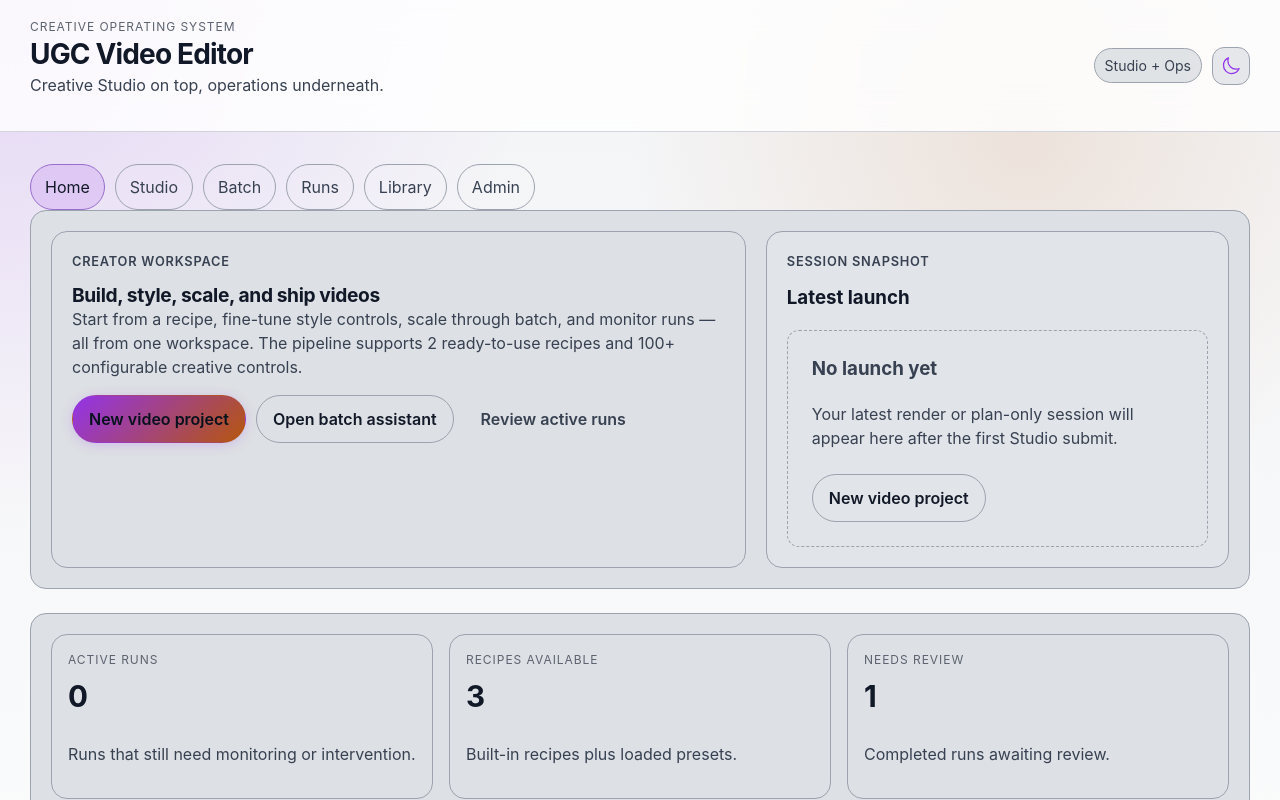
Test: App › starts from the new Home shell and previews a Studio run before launch
Expected: the link "Home" is shown, x1=30 y1=164 x2=105 y2=210
Expected: the link "Batch" is shown, x1=203 y1=164 x2=276 y2=210
Click the link "Studio" at [154, 187], box x1=115 y1=164 x2=193 y2=210
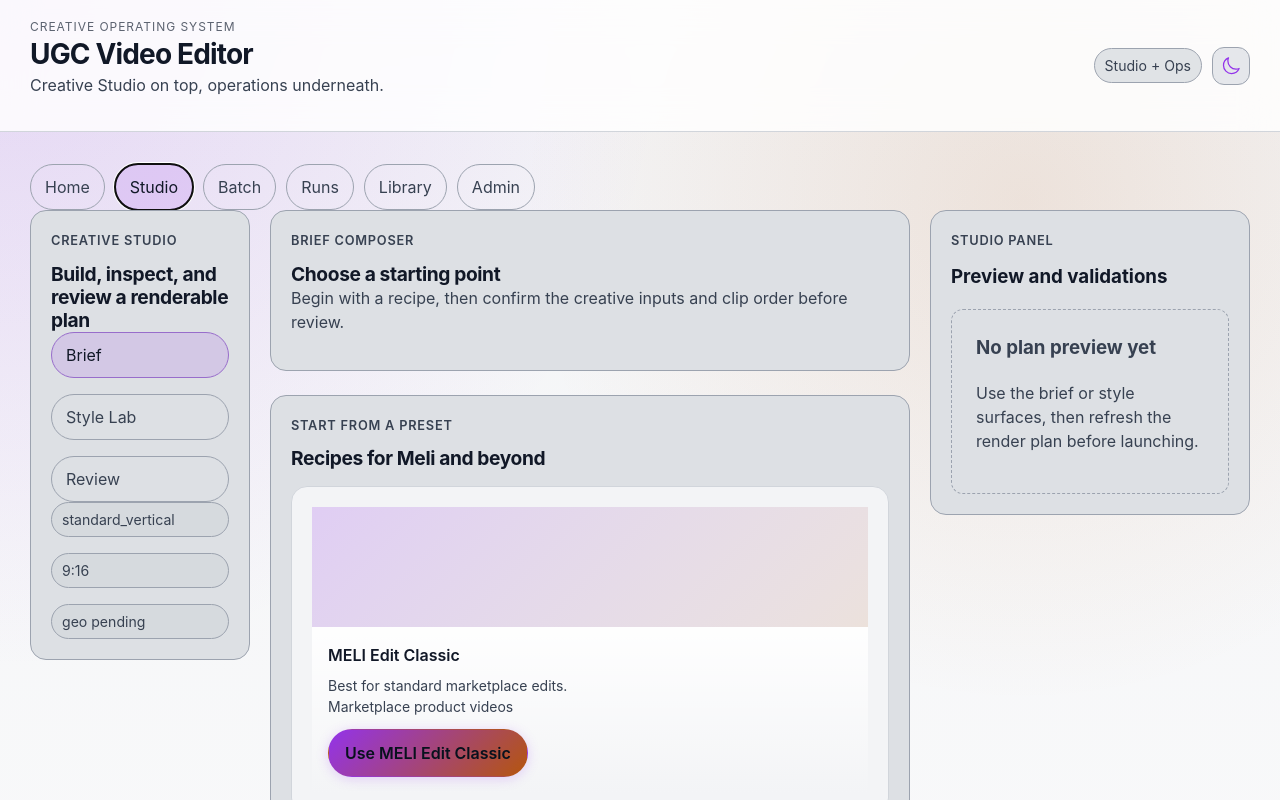
Expected: the heading "Choose a starting point" is shown, x1=291 y1=262 x2=500 y2=286
Click the button "Use MELI Edit Classic" at [428, 753], box x1=328 y1=729 x2=528 y2=777
(page scrolled)
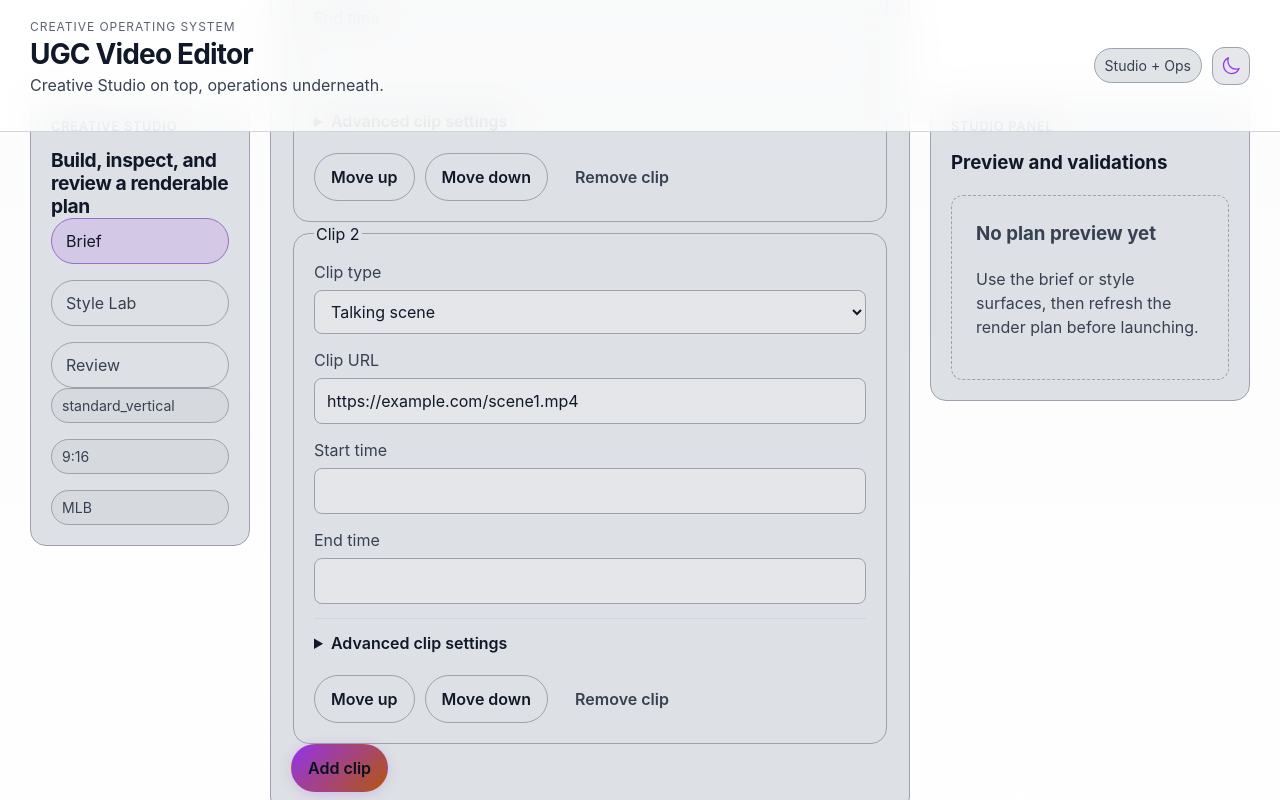
Expected: the number of fields labelled "Clip URL" is 2
Replace the text in the field labelled "Clip URL" with "https://example.com/scene2.mp4" at [590, 401], box x1=314 y1=378 x2=866 y2=424
(page scrolled)
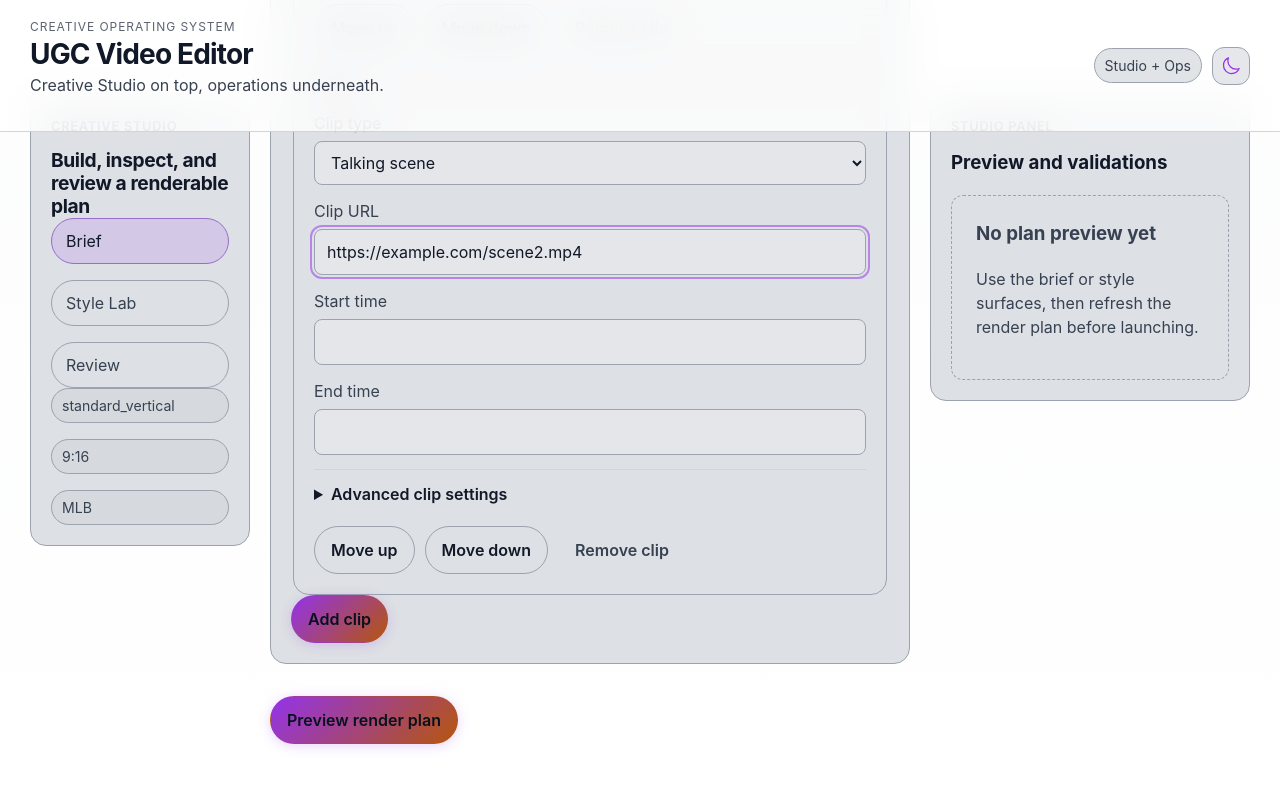
Click the button "Preview render plan" at [364, 720], box x1=270 y1=696 x2=458 y2=744
(page scrolled)
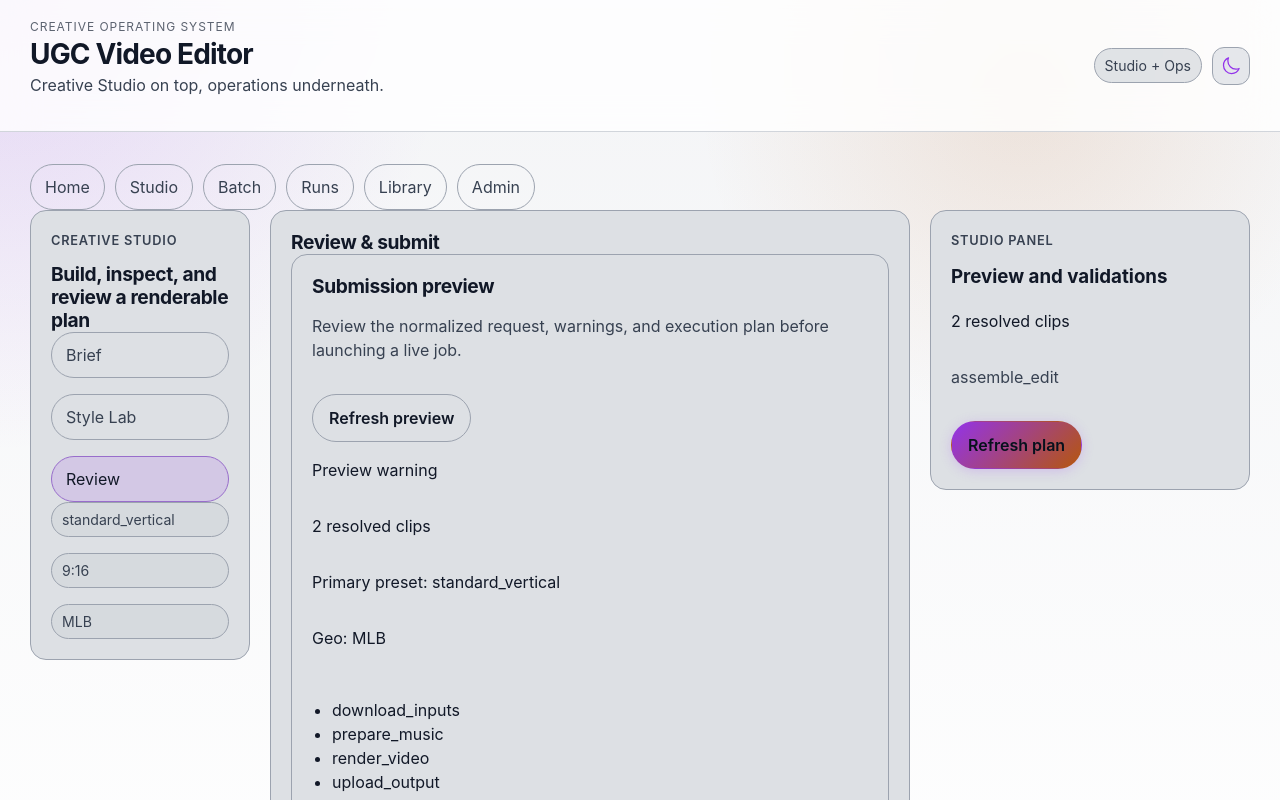
Expected: the heading "Review & submit" is shown, x1=291 y1=230 x2=439 y2=254
Expected: the heading "Submission preview" is shown, x1=312 y1=274 x2=494 y2=298
Expected: the text "Preview warning" is shown, x1=312 y1=460 x2=437 y2=480
